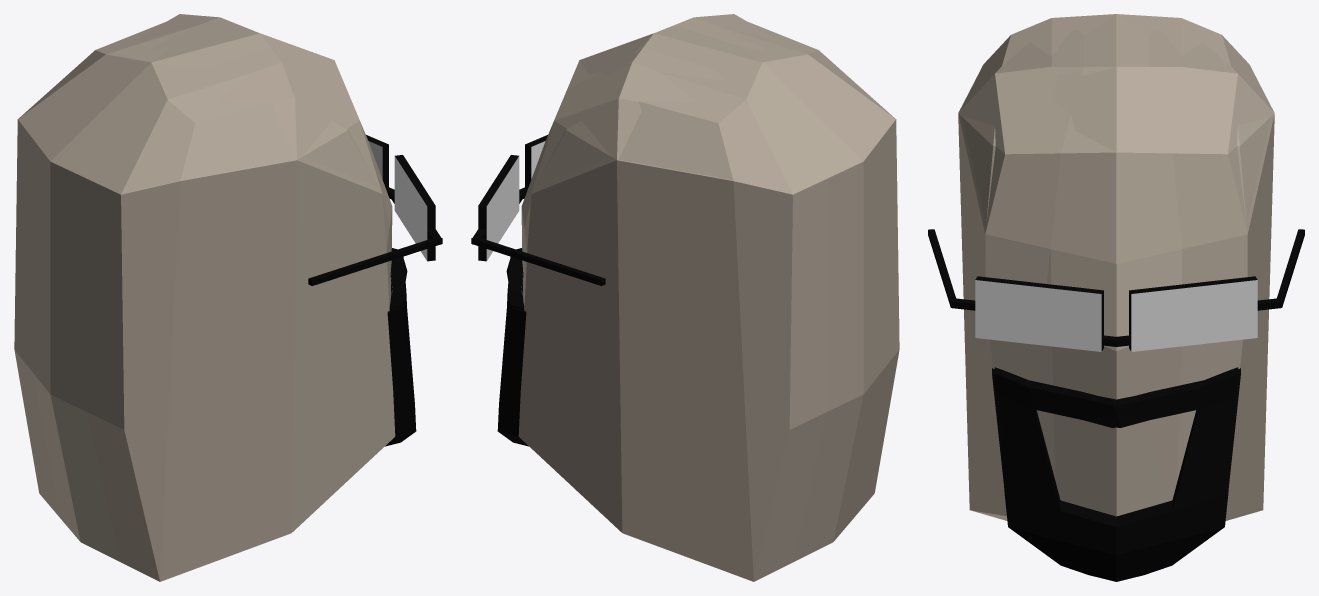
File: head5.fbx
3 views of the same model, side by side, from view 1: azimuth 30°, elevation 25°; view 2: azimuth 150°, elevation 25°; view 3: azimuth 270°, elevation 25° (orthographic). The views are drawn at different scales.
Visible parts, largest first — view 1: head5; view 2: head5; view 3: head5.
Part boxes in pixels (x1,y1,x2,y2): head5: [14, 14, 442, 581]; head5: [471, 14, 899, 581]; head5: [928, 14, 1304, 581].
Bounding box in the file's own units: 68.82 × 86.11 × 60.01.
